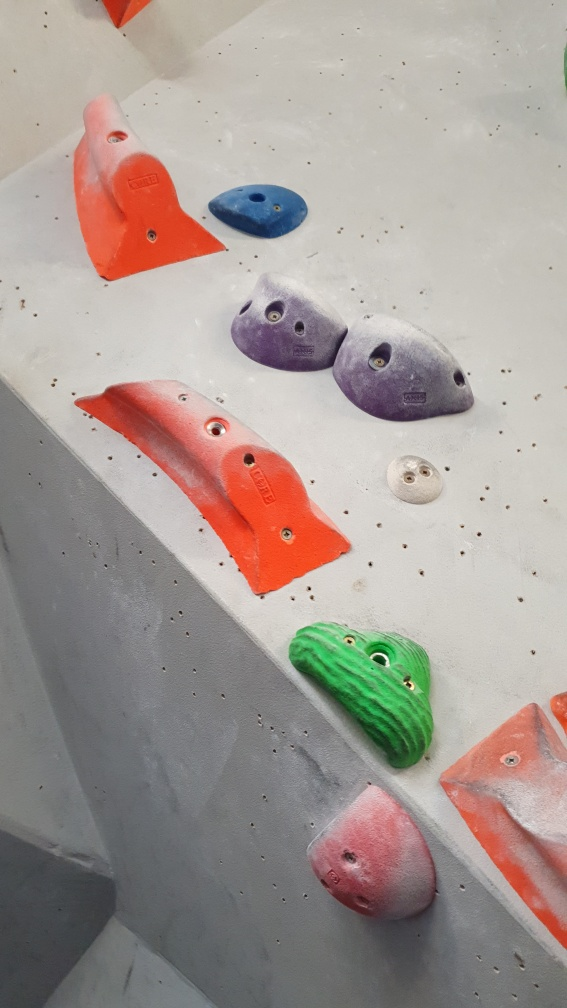Crimp: (204, 181, 312, 242)
Jug: (292, 618, 437, 770), (333, 313, 485, 419), (225, 269, 351, 375)
Pinch: (74, 377, 356, 603), (434, 699, 567, 948), (70, 94, 228, 284)
